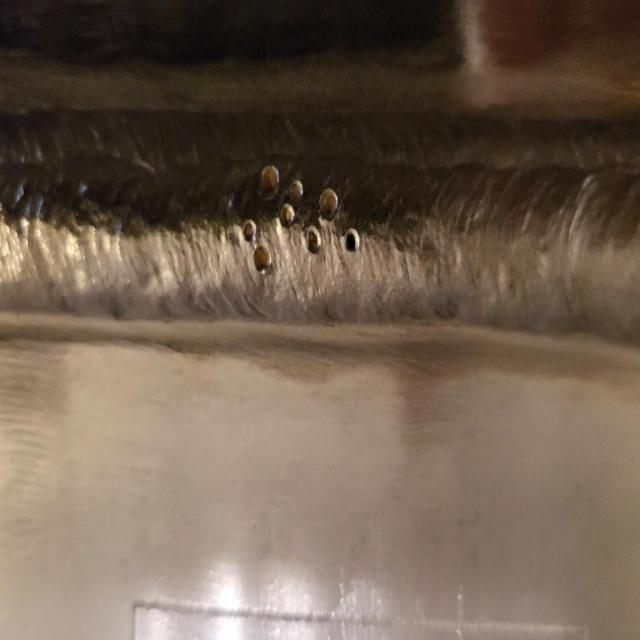Welding Line: (2, 125, 640, 328)
porosity: (239, 166, 361, 274)
